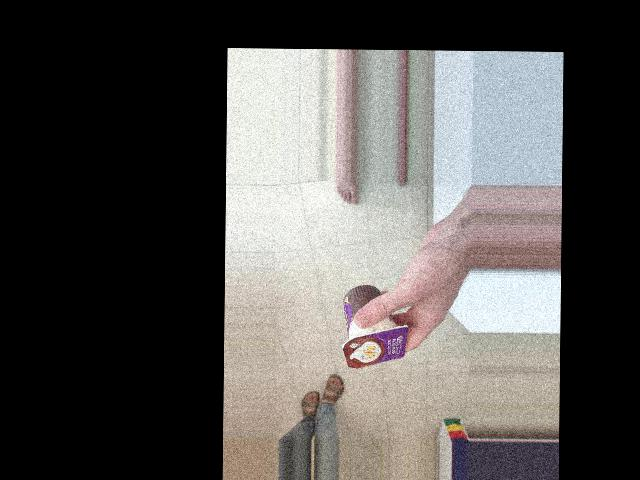milky: (310, 312, 398, 375)
